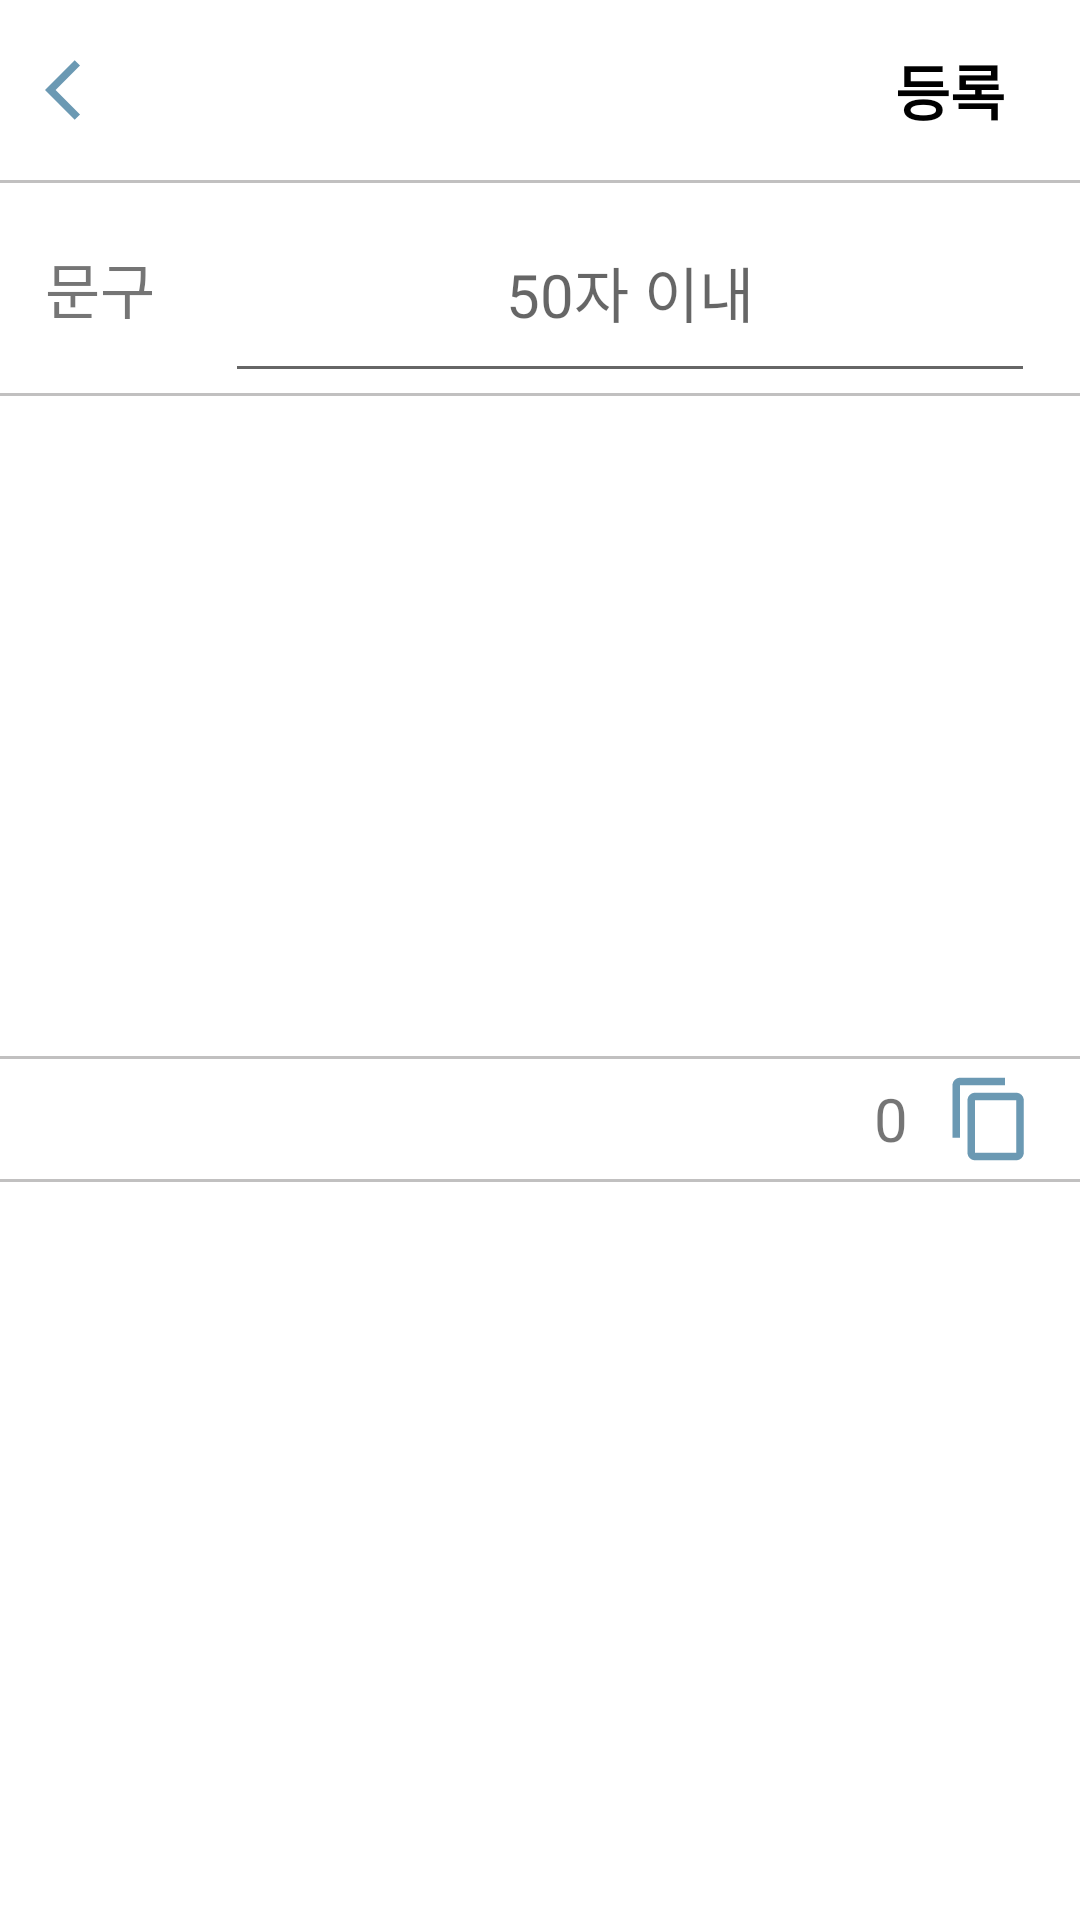

Where icons sit on this 1080px x 1920px app screen, as (x1, y1, x2, y2):
arrow back: (45, 60, 80, 120)
